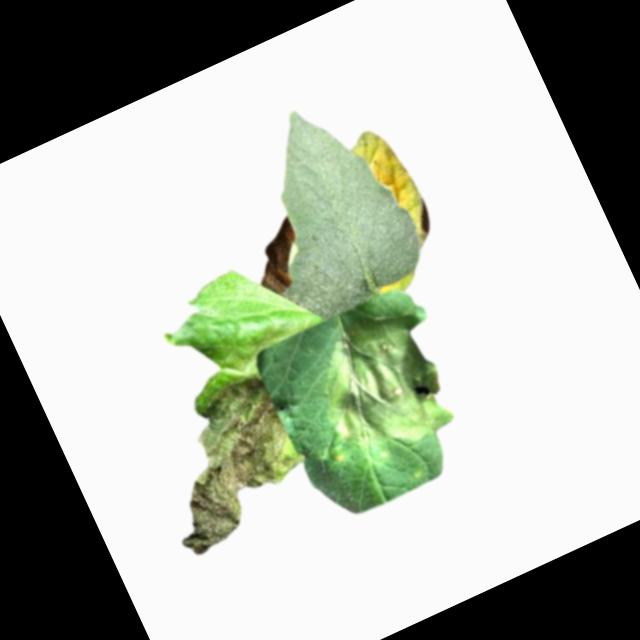Late_blight: (124, 359, 319, 560), (283, 293, 474, 479), (148, 248, 323, 404), (346, 119, 439, 252), (236, 212, 318, 304)
healthy: (215, 83, 433, 331)
